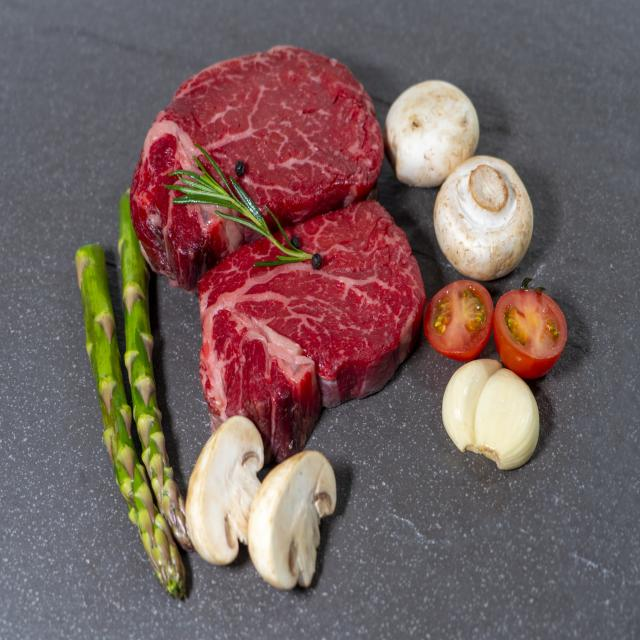beef: (258, 255, 395, 361), (224, 81, 352, 177)
